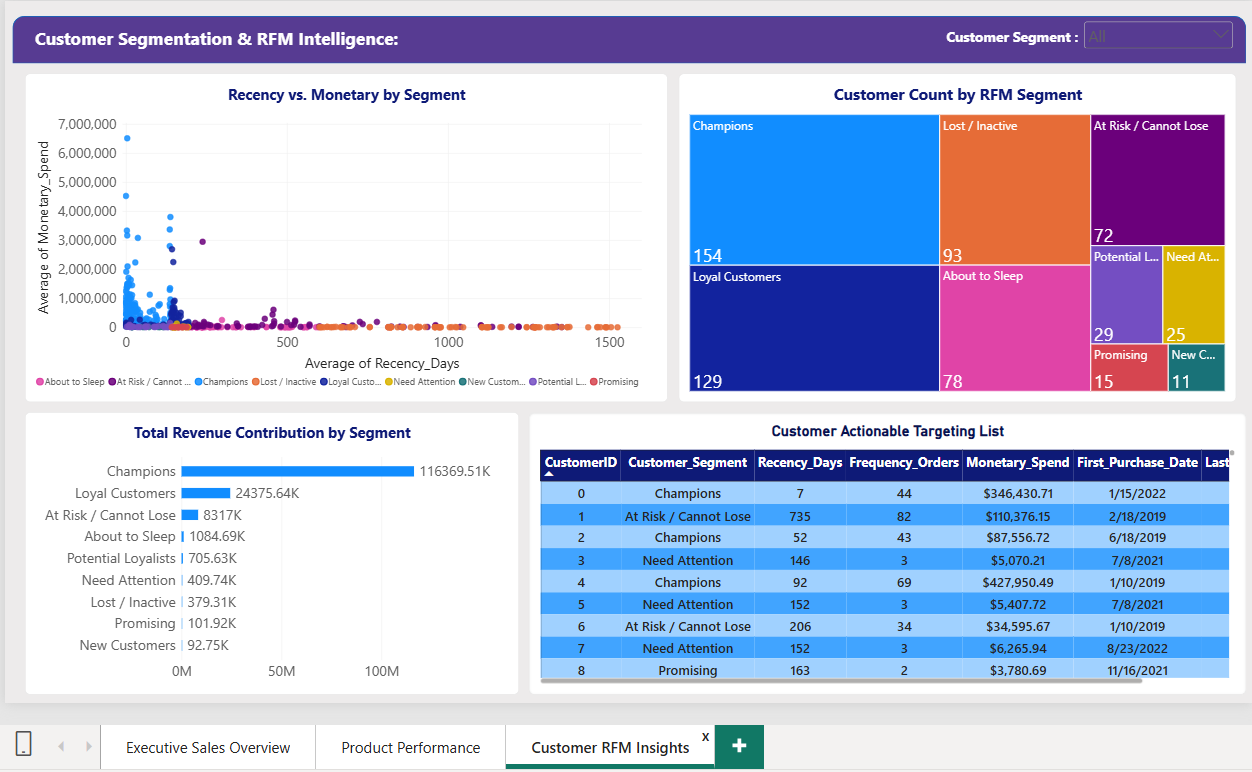

This screenshot's page, from the dashboard's own definition file:
{"tool":"powerbi","page":{"name":"Customer  RFM Insights","canvas":[1920,1080],"ordinal":2},"visuals":[{"type":"shape","box":[10.9,23.5,1897.9,72.9],"z":0},{"type":"textbox","box":[47.1,38,577.3,41.6],"z":1000},{"type":"slicer","fields":{"Values":["vw_Customer_RFM_Segments.Customer_Segment"]},"box":[1656.2,27.1,237.5,45.8],"z":2000},{"type":"textbox","box":[1447.9,39.6,237.5,41.7],"z":3000},{"type":"treemap","title":"Customer Count by RFM Segment","fields":{"Values":["CountNonNull(vw_Customer_RFM_Segments.CustomerID)"],"Group":["vw_Customer_RFM_Segments.Customer_Segment"]},"box":[27.1,110.4,933.3,520.8],"z":4000},{"type":"clusteredBarChart","title":"Total Revenue Contribution by Segment","fields":{"Category":["vw_Customer_RFM_Segments.Customer_Segment"],"Y":["Sum(vw_Customer_RFM_Segments.Monetary_Value)"]},"box":[975,110.4,933.3,520.8],"z":5000},{"type":"scatterChart","fields":{"X":["vw_Customer_RFM_Segments.Recency_Days"],"Y":["vw_Customer_RFM_Segments.Monetary_Value"]},"box":[27,641,933,439],"z":6000},{"type":"tableEx","title":"Customer Actionable Targeting List","fields":{"Values":["vw_Customer_RFM_Segments.CustomerID","vw_Customer_RFM_Segments.Customer_Segment","vw_Customer_RFM_Segments.Recency_Days","vw_Customer_RFM_Segments.Frequency_Orders","vw_Customer_RFM_Segments.Monetary_Value"]},"box":[975,641,933,439],"z":6001}]}

Visuals, with their boxes on the page's 1920x1080 design canvas (x1, y1, x2, y2). These are canvas units, not pixel positions in the 1252x772 screenshot, which may show the page scaled, cropped or inside an application window:
shape: box=[11, 24, 1909, 96]
textbox: box=[47, 38, 624, 80]
slicer - vw_Customer_RFM_Segments.Customer_Segment: box=[1656, 27, 1894, 73]
textbox: box=[1448, 40, 1685, 81]
"Customer Count by RFM Segment" treemap: box=[27, 110, 960, 631]
"Total Revenue Contribution by Segment" clusteredBarChart: box=[975, 110, 1908, 631]
scatterChart - vw_Customer_RFM_Segments.Recency_Days x vw_Customer_RFM_Segments.Monetary_Value: box=[27, 641, 960, 1080]
"Customer Actionable Targeting List" tableEx: box=[975, 641, 1908, 1080]
